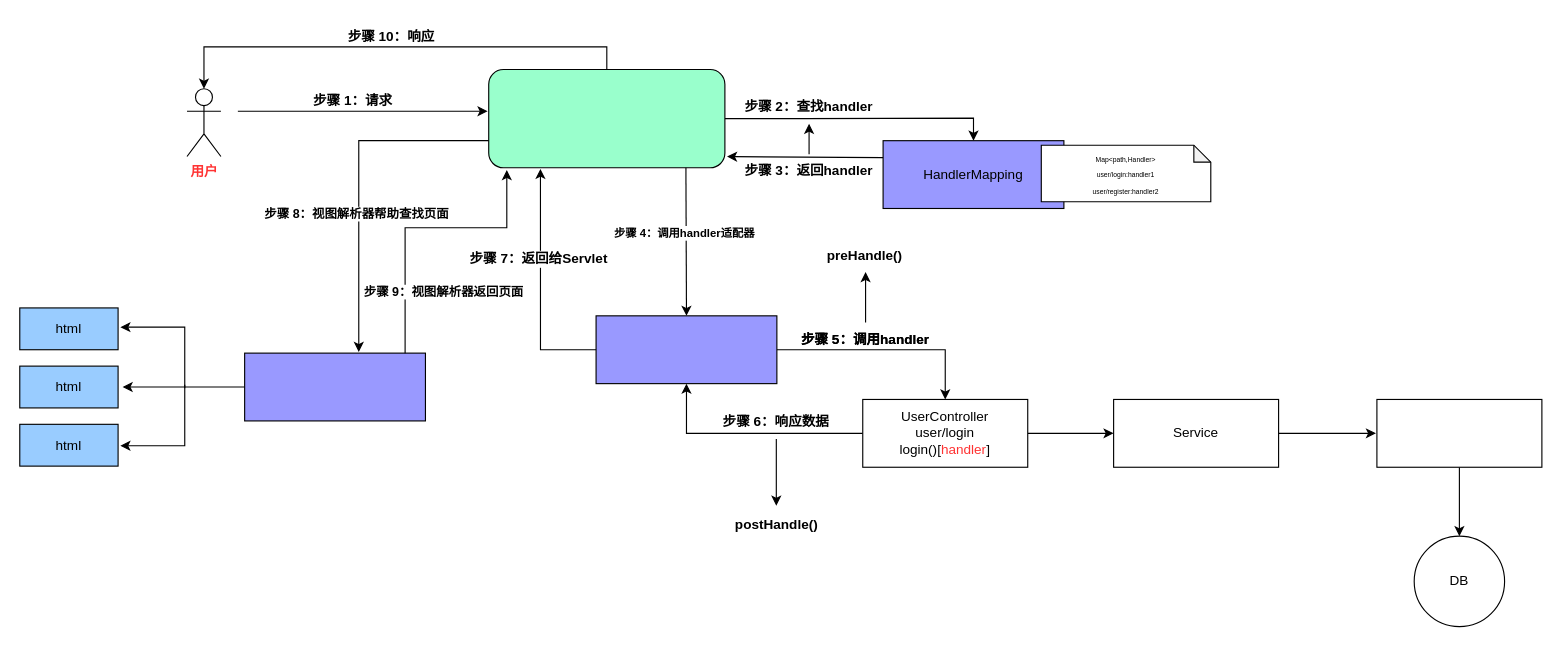
This 1562x646 diagram has some shape labels left out. Here are the shapes that lost their labels. From the top down, the box of each, then its label:
(488, 68, 725, 168): DispatcherServlet
(595, 315, 777, 384): HandlerAdapter 简化参数 简化响应
(244, 352, 425, 421): ViewResolver 视图解析器
(1376, 398, 1542, 467): Dao
